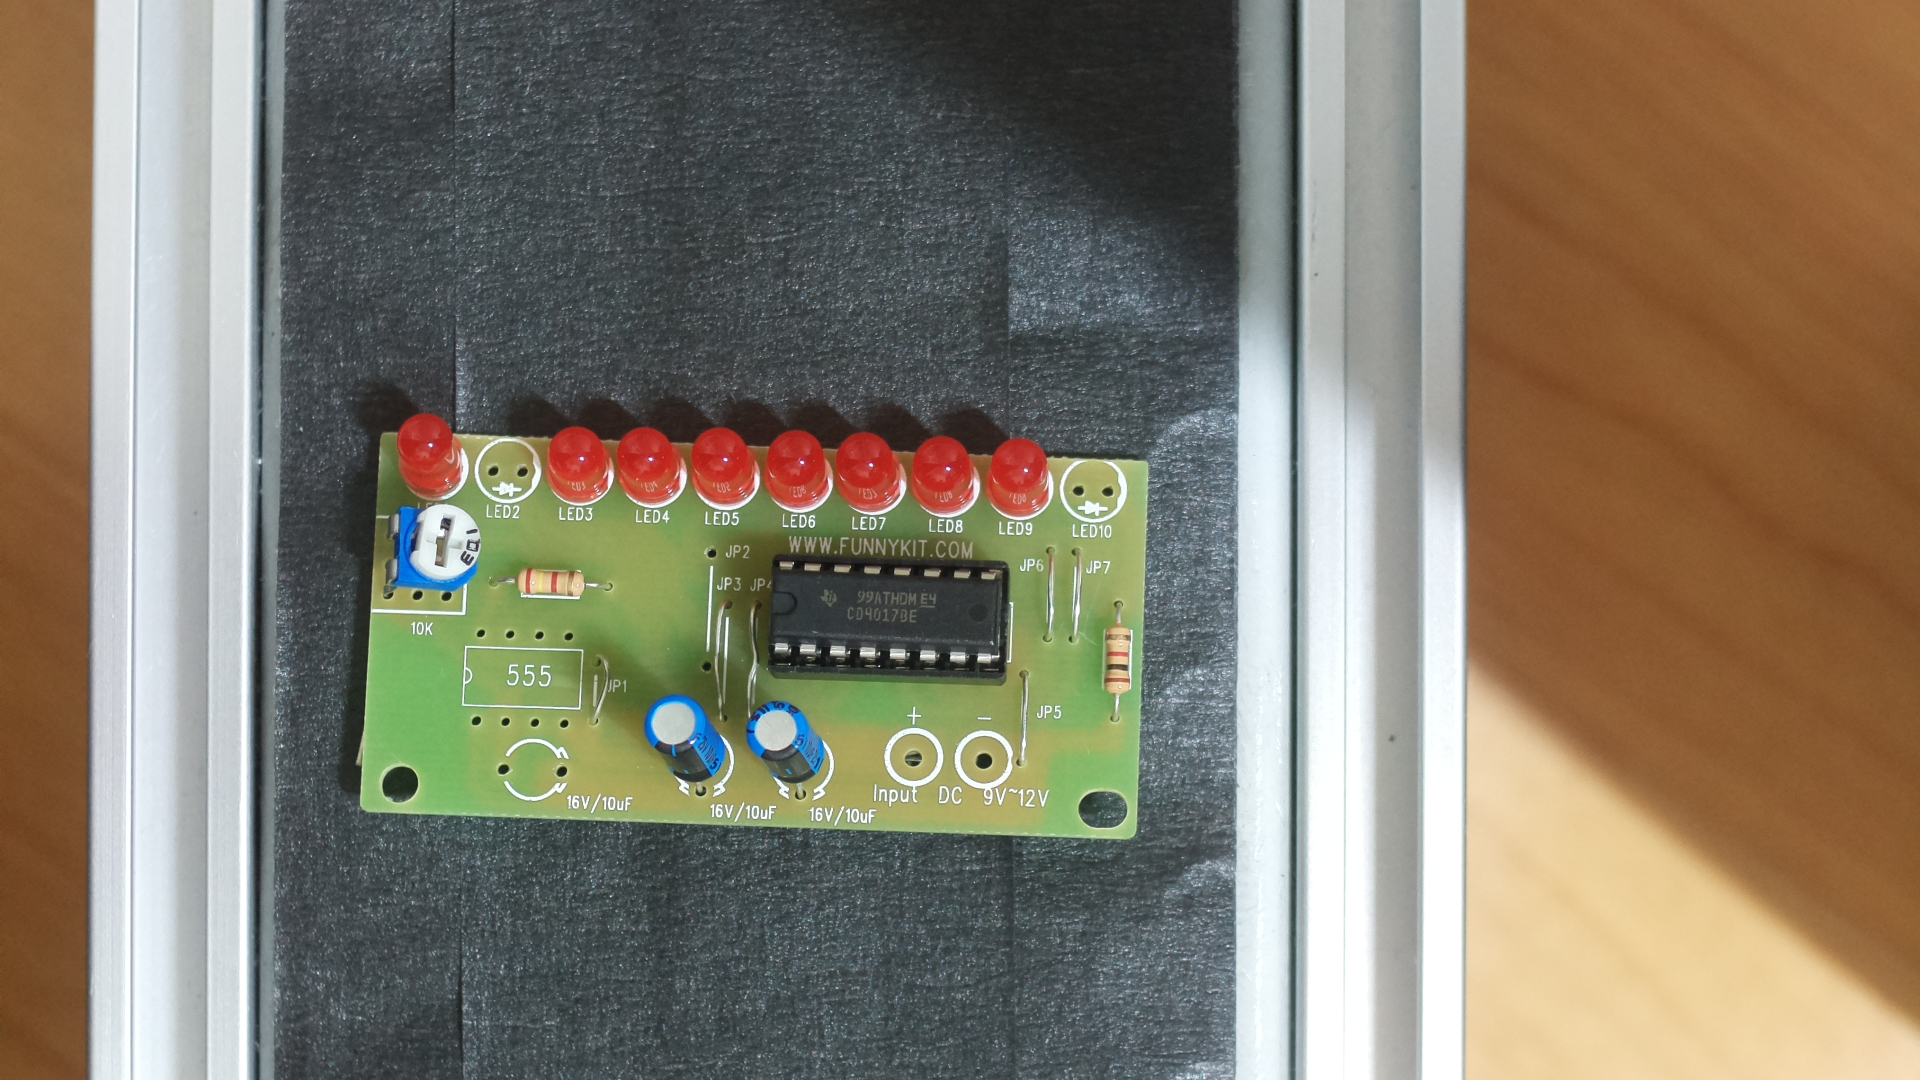B_Missing_part: (353, 399, 1173, 864)
